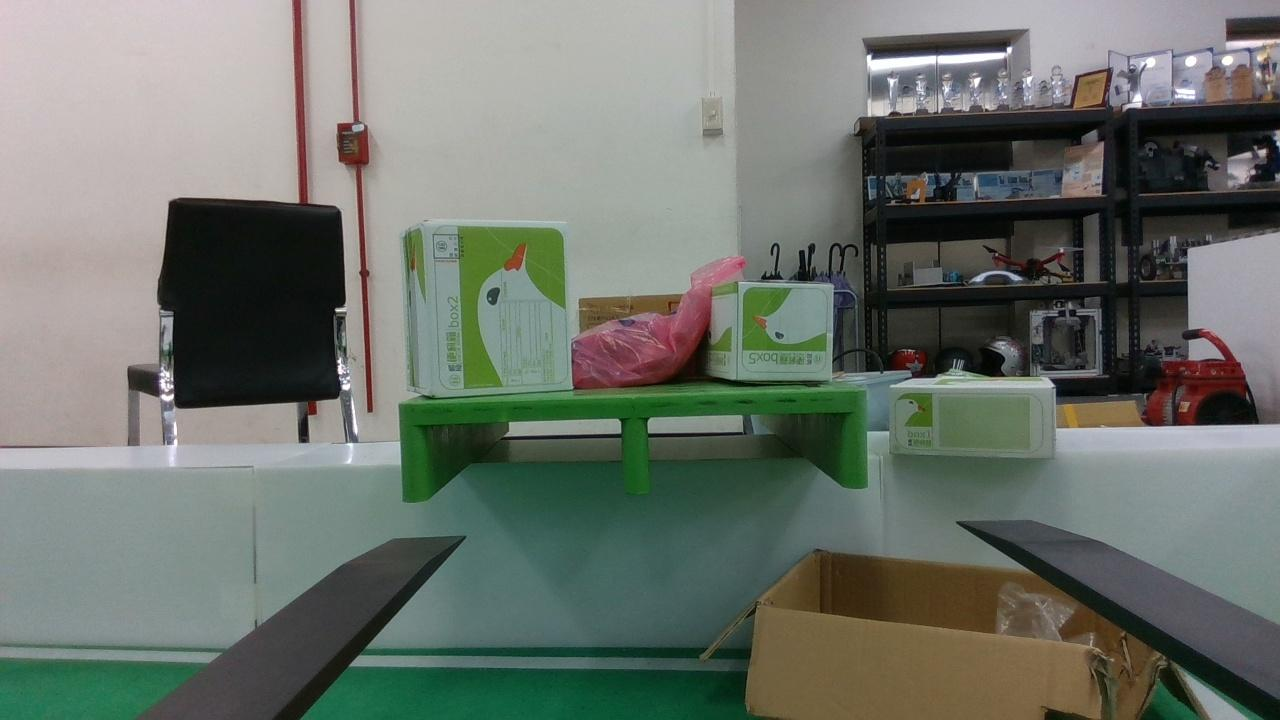Pallet: (399, 390, 869, 502)
